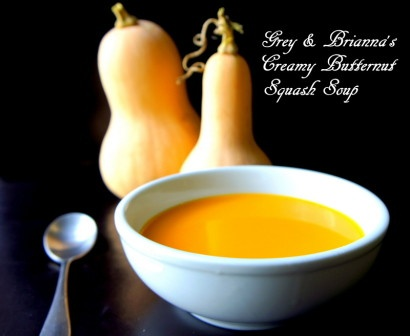background: (88, 36, 234, 135), (62, 1, 174, 104)
